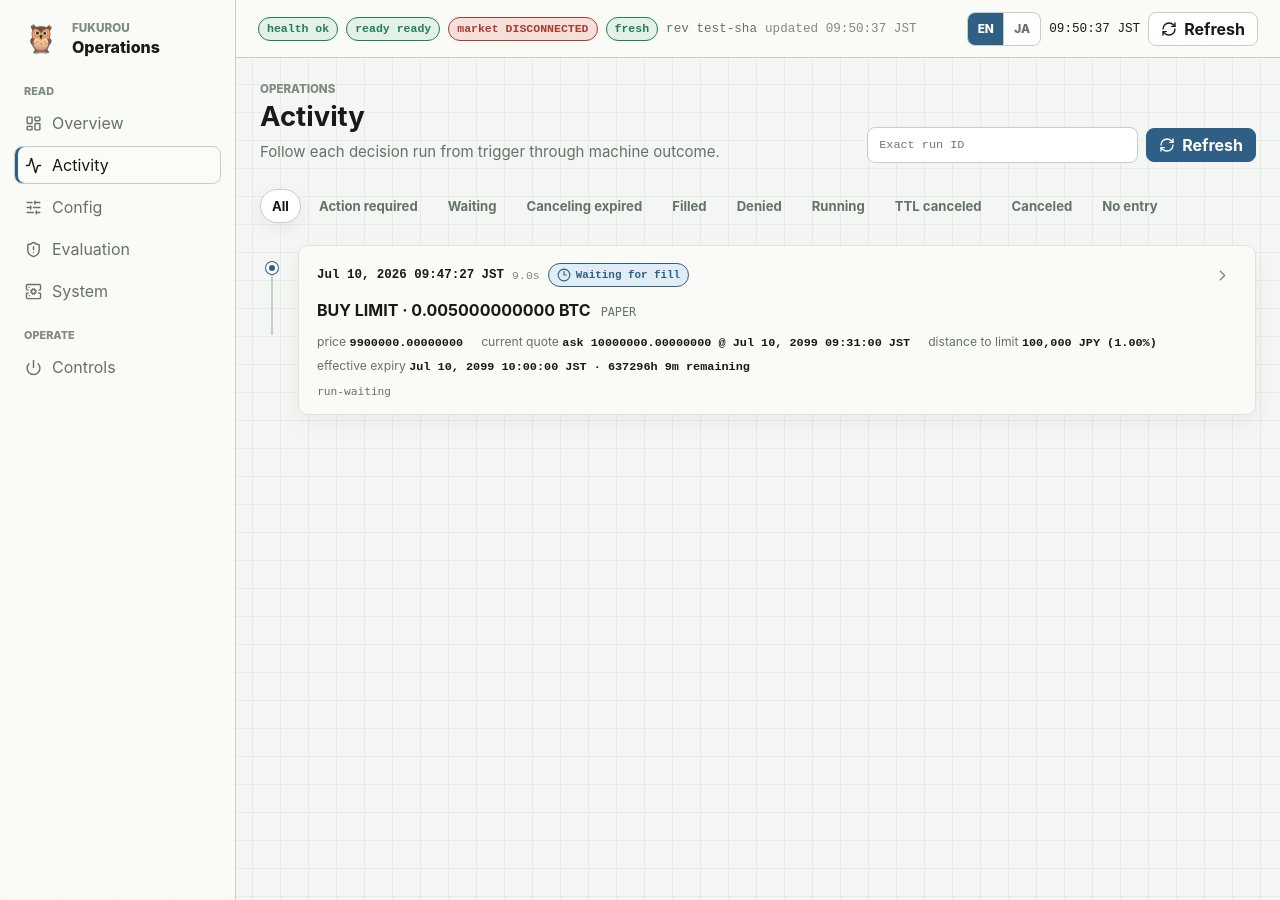
App › shows resting order quote distance expiry and natural fill condition
Expected: the text "Waiting for fill" is shown, [548, 263, 689, 287]
Expected: the text "ask 10000000.00000000 @ Jul 10, 2099 09:31:00 JST" is shown, [562, 336, 910, 350]
Click the button named "BUY LIMIT" at (1222, 275), box [1208, 266, 1237, 285]
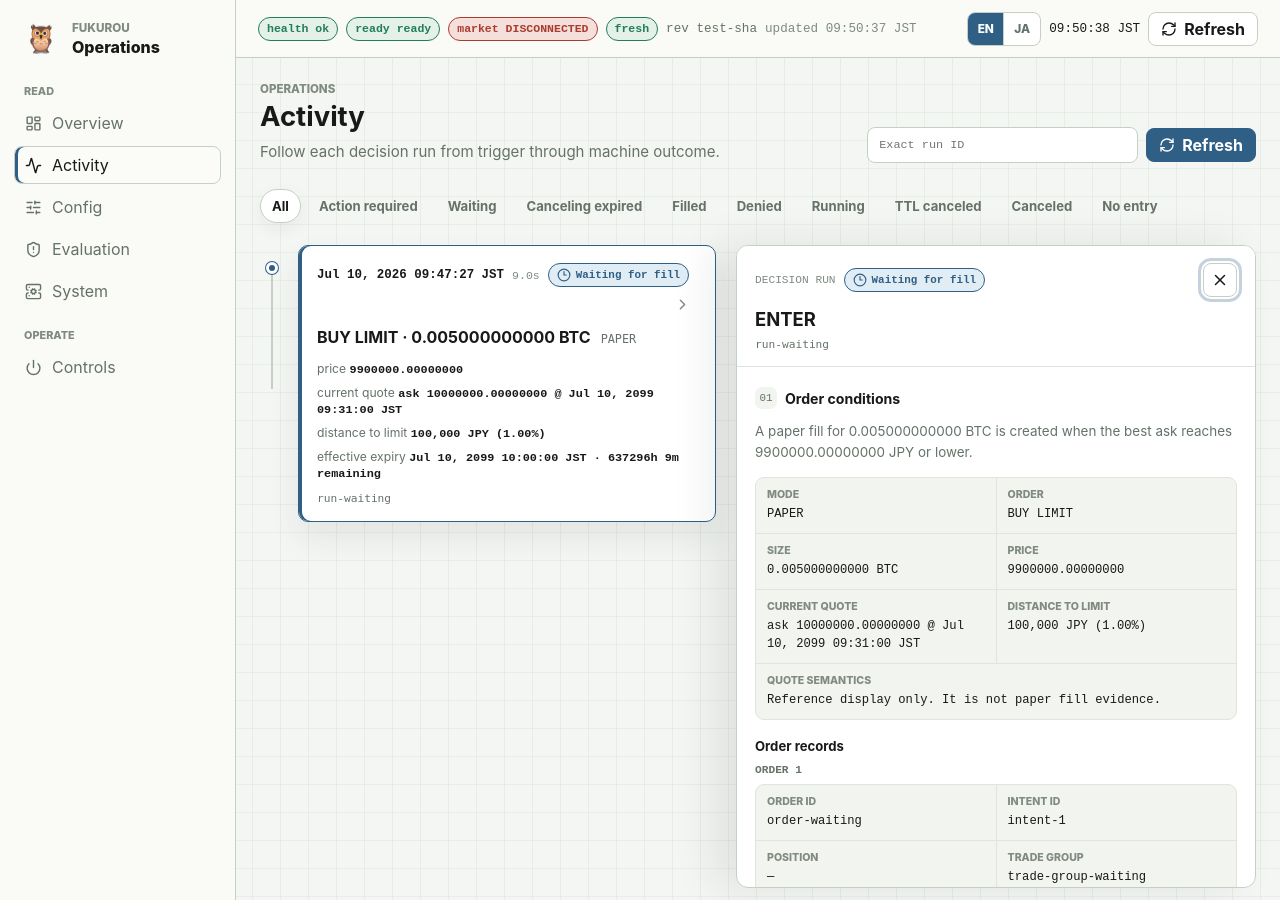
Expected: the text "best ask reaches 9900000.00000000 JPY" is shown, [755, 423, 1232, 460]
Expected: the text "Reference display only. It is not paper fill evidence." is shown, [767, 692, 1225, 709]
